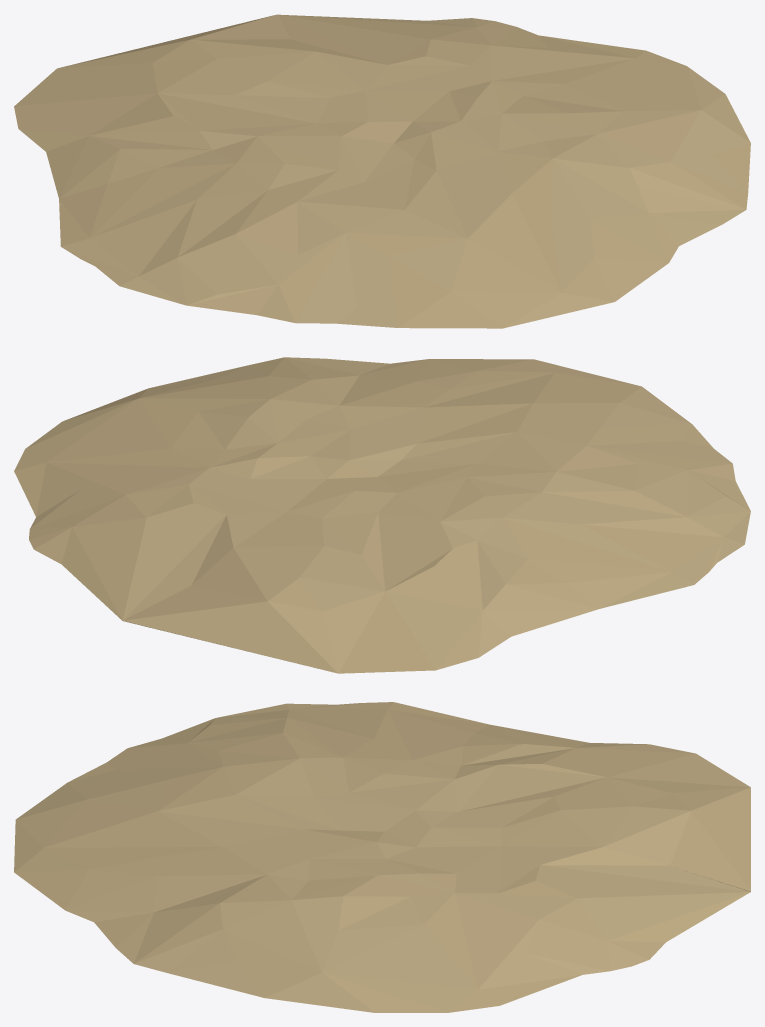
The model's file is SM_Env_Flat_Sand_02.glb.
3 renders of one model, top to bottom at view 1: azimuth 30°, elevation 25°; view 2: azimuth 150°, elevation 25°; view 3: azimuth 270°, elevation 25°, orthographic. The views are drawn at different scales.
Parts seen in each view (by area): view 1: SM_Env_Flat_Sand_02_part00; view 2: SM_Env_Flat_Sand_02_part00; view 3: SM_Env_Flat_Sand_02_part00.
Part boxes in pixels (<box>): SM_Env_Flat_Sand_02_part00: <box>14,14,750,328</box>; SM_Env_Flat_Sand_02_part00: <box>14,357,750,673</box>; SM_Env_Flat_Sand_02_part00: <box>14,702,750,1012</box>.
Size of the model in its own units: 10.5 by 0.5361 by 10.51.
1 material, 1 textured.
